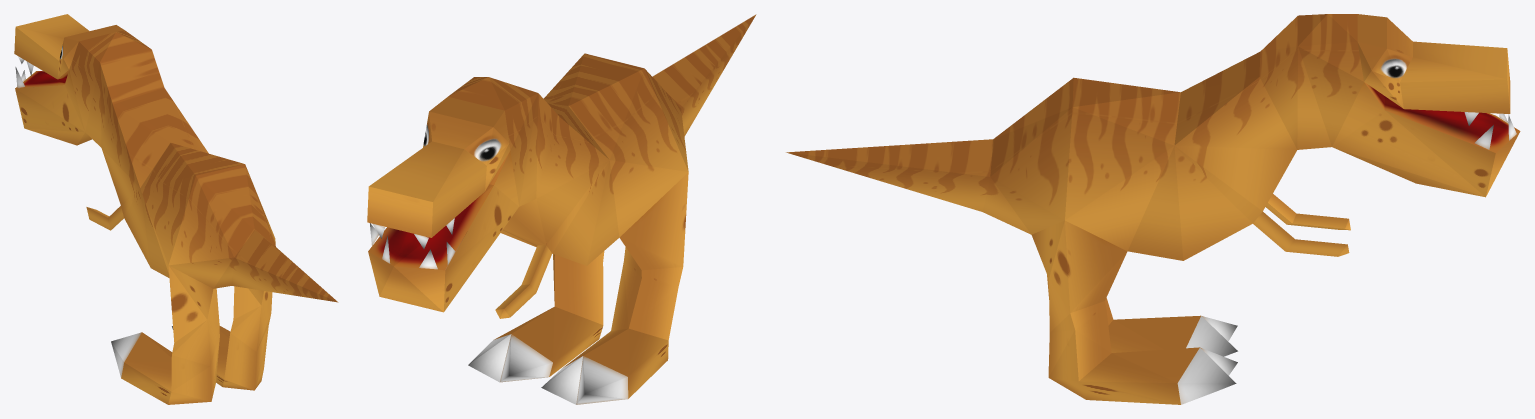
Rendered from dino.glb.
3 views of the same model, side by side, from view 1: azimuth 30°, elevation 25°; view 2: azimuth 150°, elevation 25°; view 3: azimuth 270°, elevation 25° (orthographic). The views are drawn at different scales.
Visible parts, largest first — view 1: dino; view 2: dino; view 3: dino.
Boxes of the visible parts, bbox=[...] form: dino: bbox=[14, 14, 338, 404]; dino: bbox=[367, 14, 756, 404]; dino: bbox=[786, 14, 1520, 404].
Bounding box in the file's own units: 138 × 338 × 628.
Materials: 1 (1 with a texture image).
